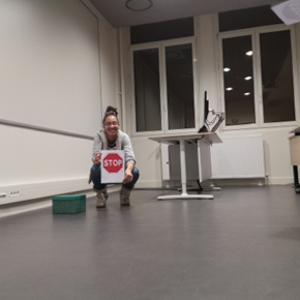stop: (103, 153, 122, 173)
